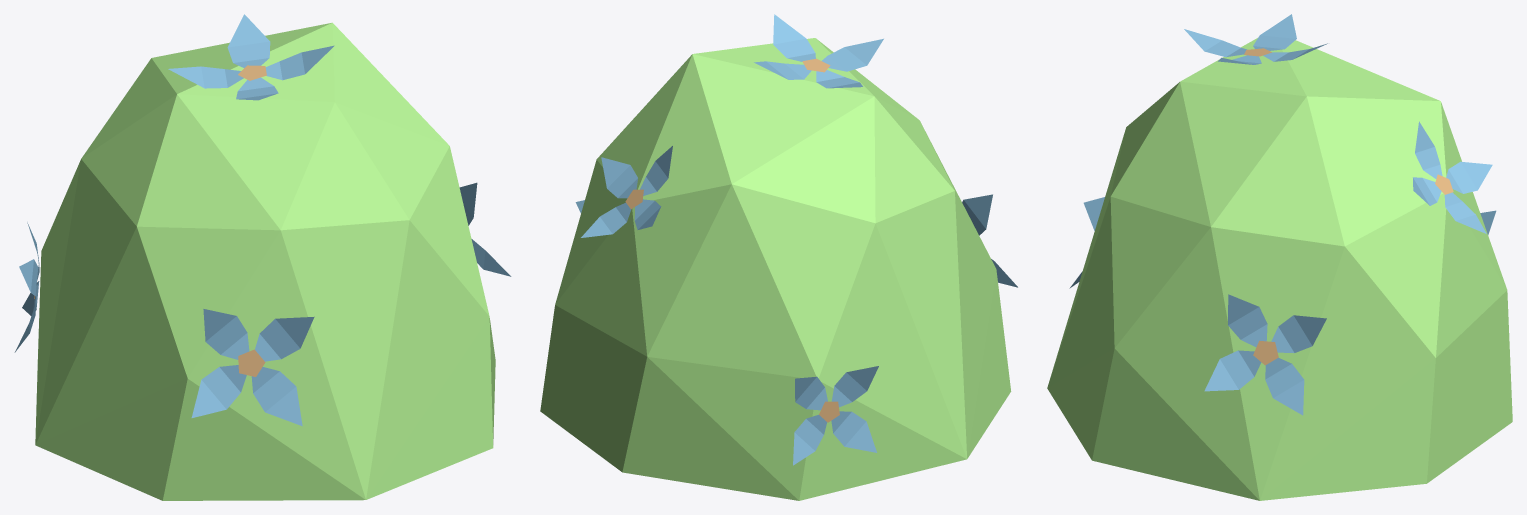
File: FlowerBush_h_m_06.fbx
The picture shows the model from 3 angles, left to right: view 1: azimuth 30°, elevation 25°; view 2: azimuth 150°, elevation 25°; view 3: azimuth 270°, elevation 25°; orthographic projection. The views are drawn at different scales.
Visible parts, largest first — view 1: FlowerBush_h_m_06; view 2: FlowerBush_h_m_06; view 3: FlowerBush_h_m_06.
Part boxes in pixels (<box>): FlowerBush_h_m_06: <box>14,14,511,500</box>; FlowerBush_h_m_06: <box>540,14,1017,500</box>; FlowerBush_h_m_06: <box>1047,14,1512,500</box>.
Size of the model in its own units: 115 by 95.22 by 111.
